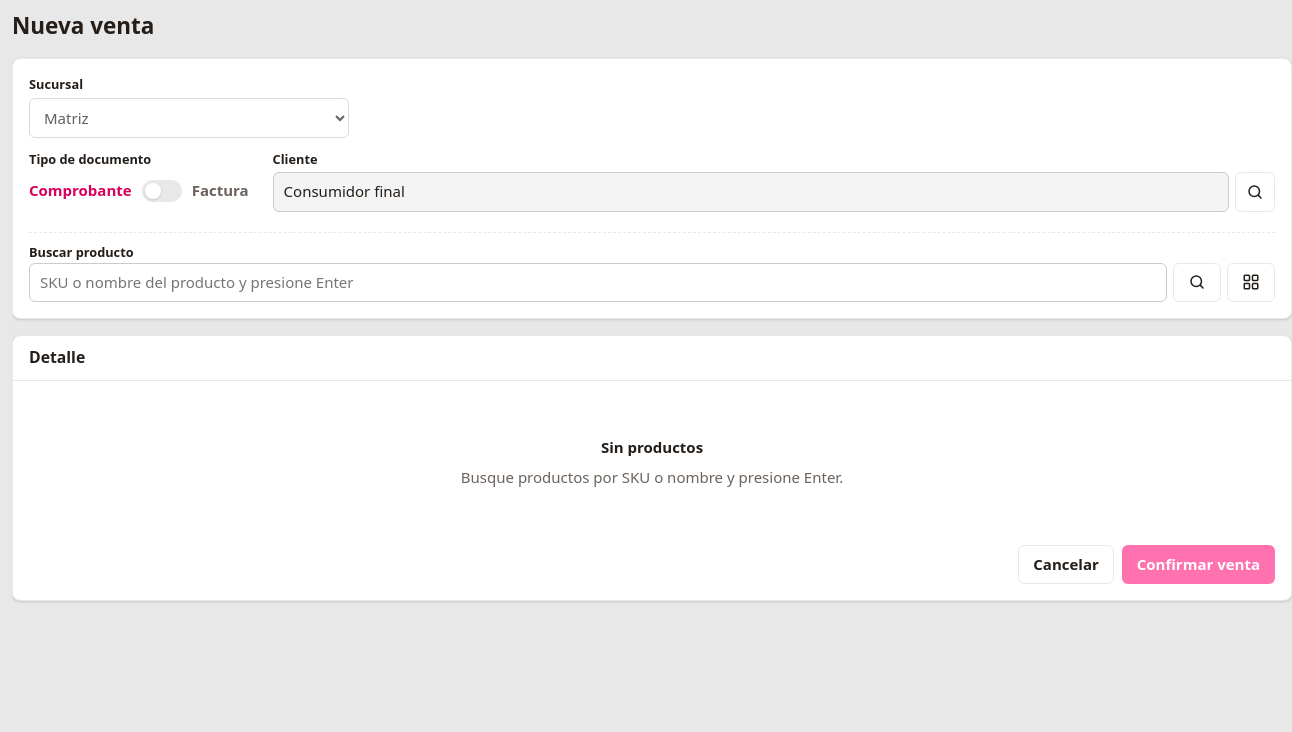
Scenario: NewSalePage › offers the Inventario module when the product is not in the branch
Type "cargador" into the field labelled "Buscar producto" at coordinates (598, 282), box [29, 263, 1167, 302]
Then press Enter
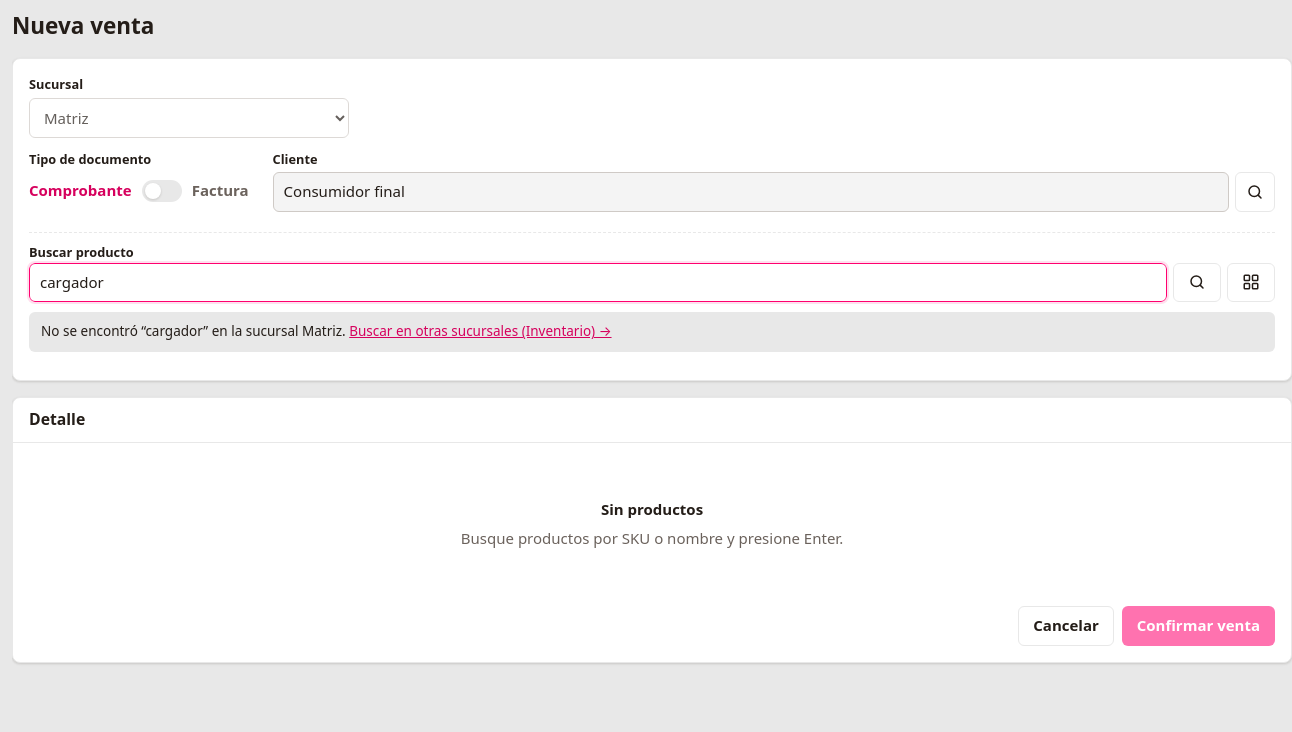
Result: the text "No se encontró “cargador” en la sucursal Matriz" is shown at [29, 312, 1275, 352]
